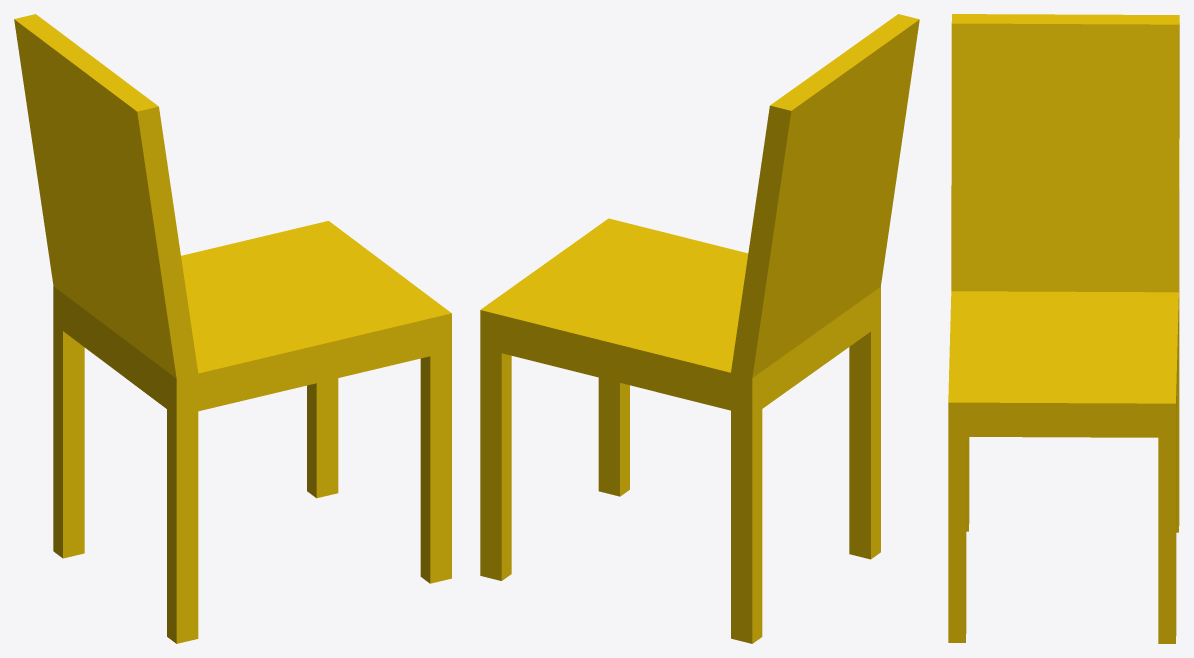
Rendered from Chair 2.fbx.
The picture shows the model from 3 angles, left to right: view 1: azimuth 30°, elevation 25°; view 2: azimuth 150°, elevation 25°; view 3: azimuth 270°, elevation 25°; orthographic projection. The views are drawn at different scales.
Parts seen in each view (by area): view 1: chair; view 2: chair; view 3: chair.
Boxes of the visible parts, <box> form: chair: <box>14,14,451,643</box>; chair: <box>480,14,919,643</box>; chair: <box>948,14,1179,643</box>.
Bounding box in the file's own units: 5.53 × 9.08 × 3.88.
